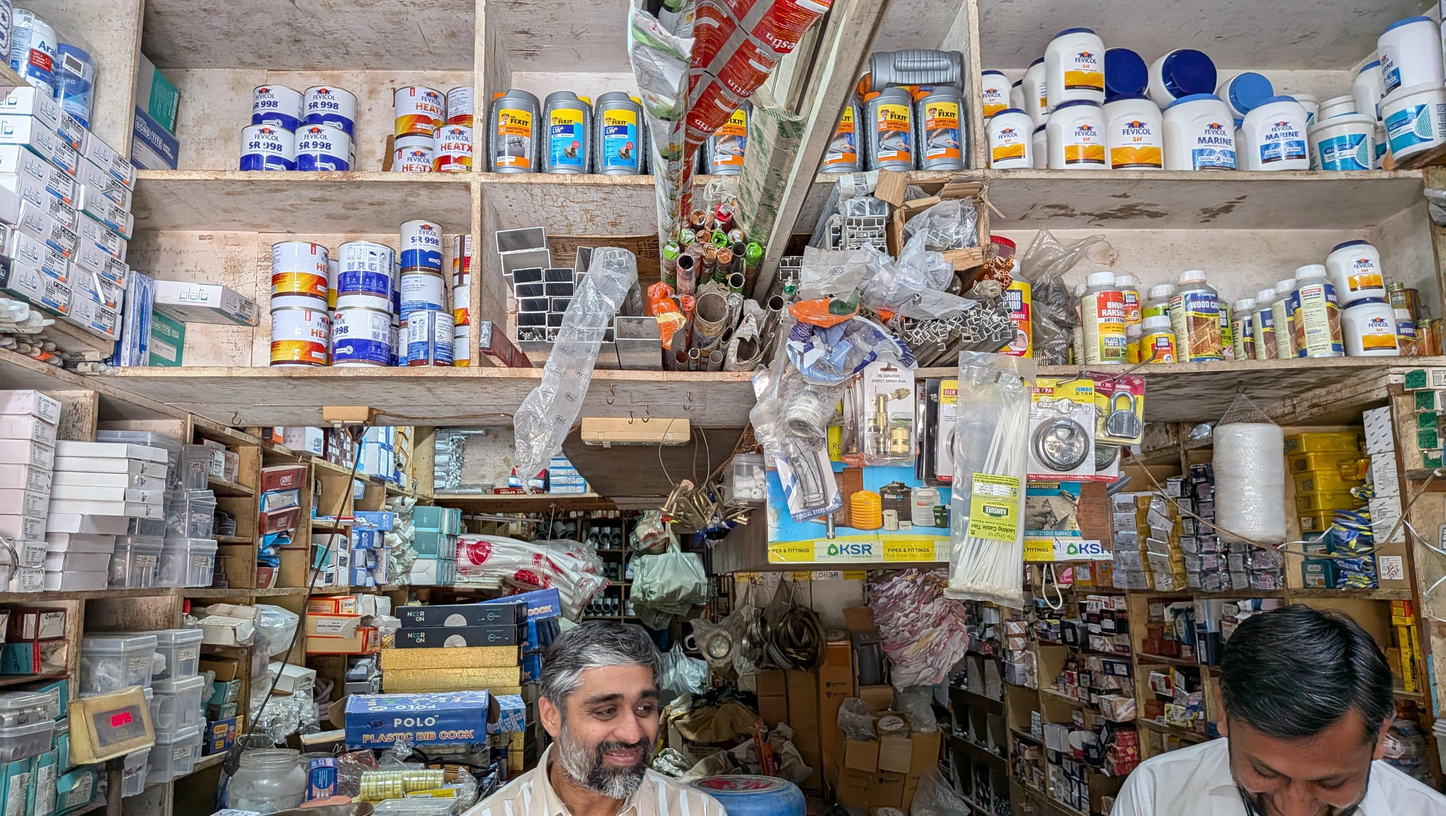Fevicol_HEATX: (271, 241, 330, 312), (271, 307, 329, 365), (394, 86, 445, 138), (433, 125, 472, 171), (392, 136, 434, 172), (446, 86, 474, 127), (452, 235, 472, 285), (452, 284, 470, 325), (453, 326, 470, 366), (327, 259, 339, 310)
